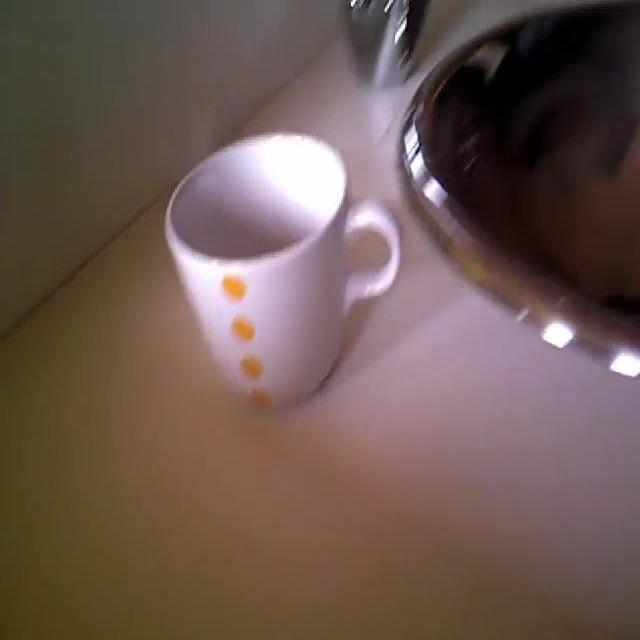cup: (166, 130, 402, 413)
